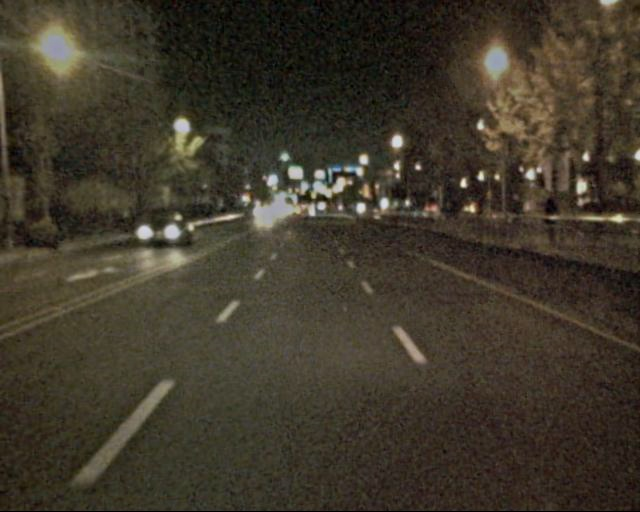person: (538, 189, 568, 257), (504, 190, 528, 248), (442, 195, 462, 226)
